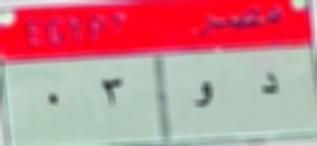0: (43, 87, 62, 111)
3: (101, 76, 127, 112)
daal: (255, 70, 282, 99)
waw: (190, 79, 216, 113)
